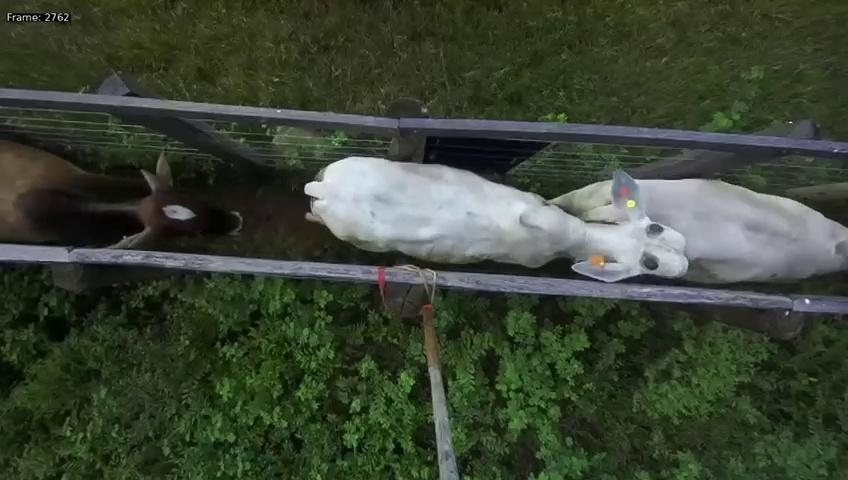cattle: (300, 133, 697, 286), (0, 131, 255, 262)
